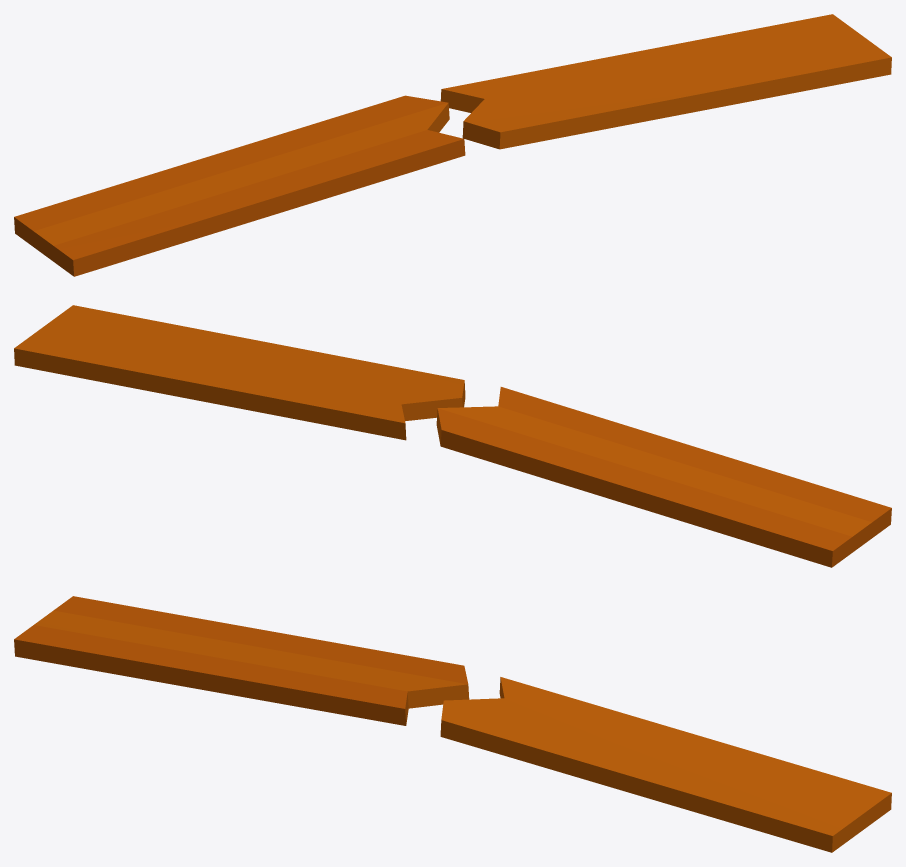
File: Broken_plank_14.fbx
3 renders of one model, top to bottom at view 1: azimuth 30°, elevation 25°; view 2: azimuth 150°, elevation 25°; view 3: azimuth 330°, elevation 25°, orthographic.
Visible parts, largest first — view 1: Cube.106, Cube.101; view 2: Cube.106, Cube.101; view 3: Cube.101, Cube.106.
Boxes of the visible parts, box(x1,y1,x2,y2) form: Cube.106: box(14, 95, 465, 276); Cube.101: box(440, 14, 891, 149); Cube.106: box(436, 387, 891, 567); Cube.101: box(14, 305, 465, 440); Cube.101: box(440, 677, 891, 852); Cube.106: box(14, 596, 469, 725).
Bounding box in the file's own units: 104 × 5.4 × 13.07.
